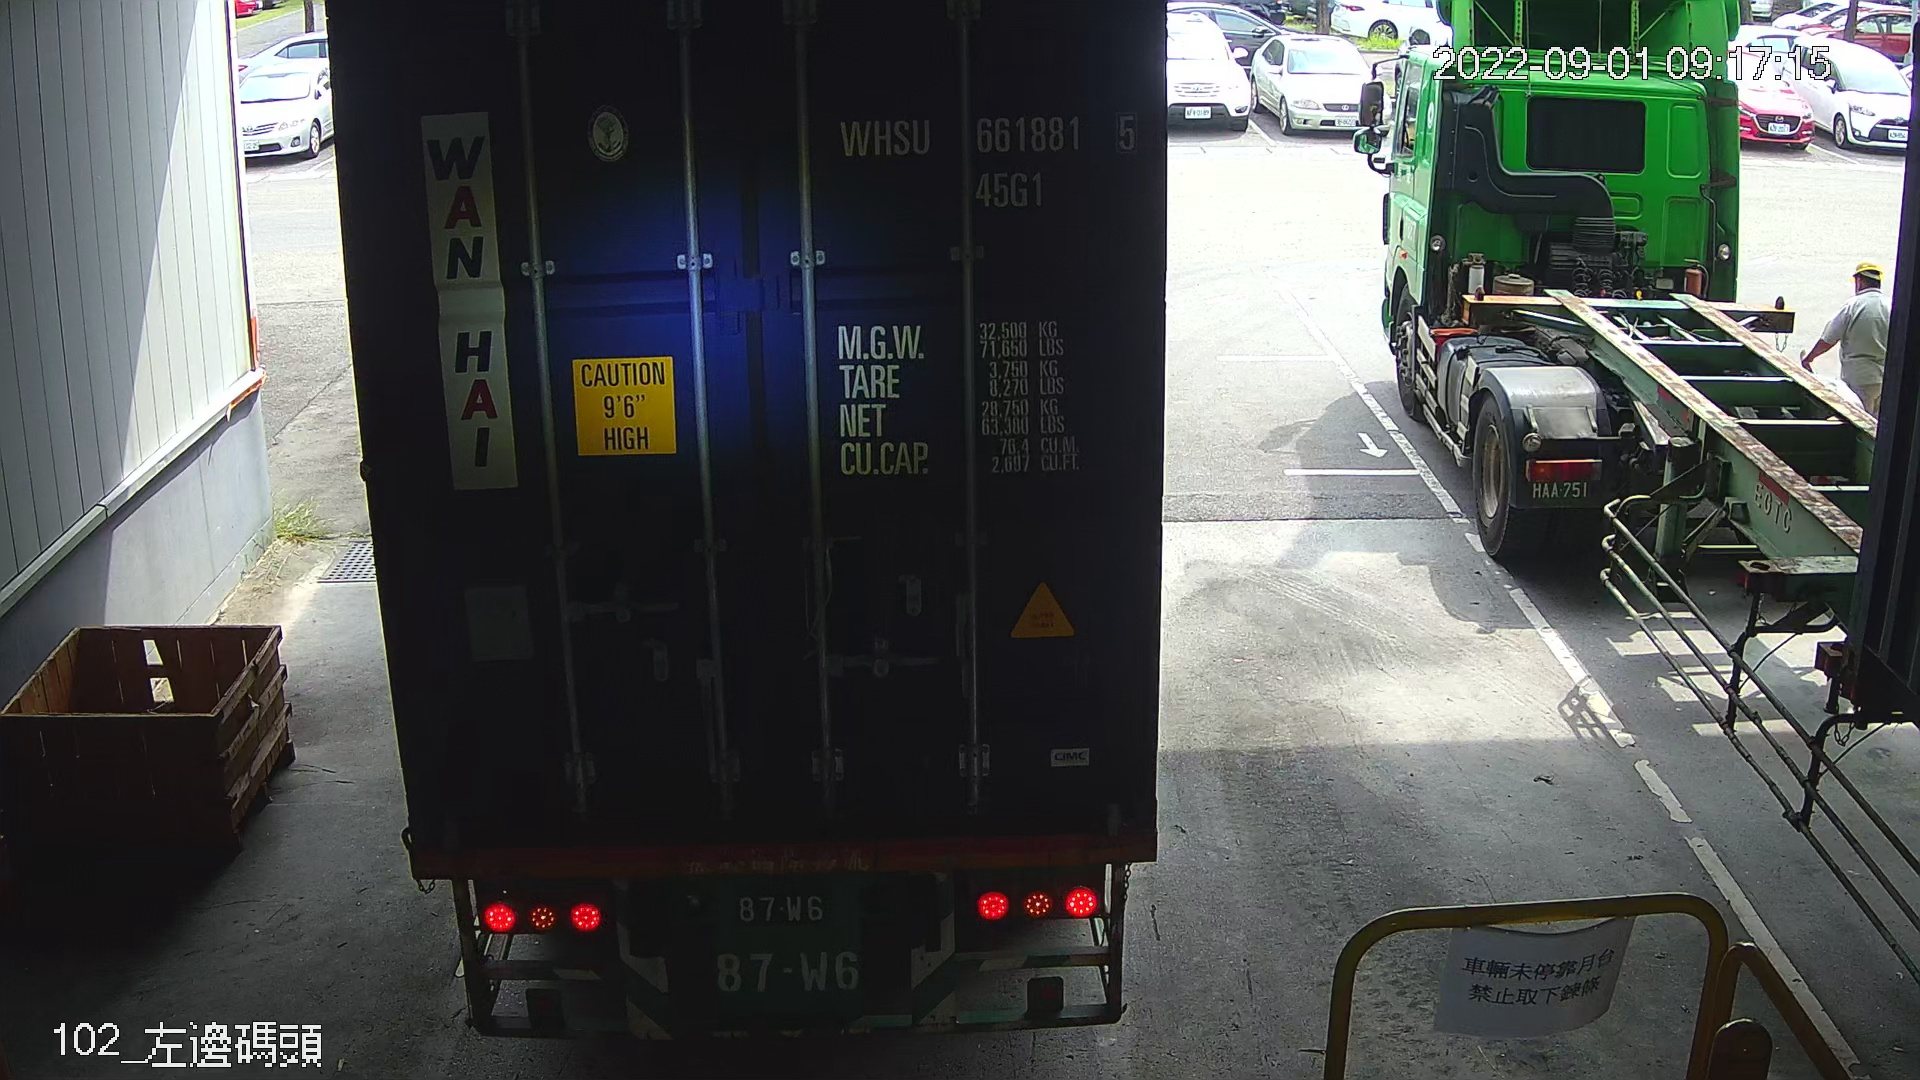container: (819, 102, 1156, 222)
